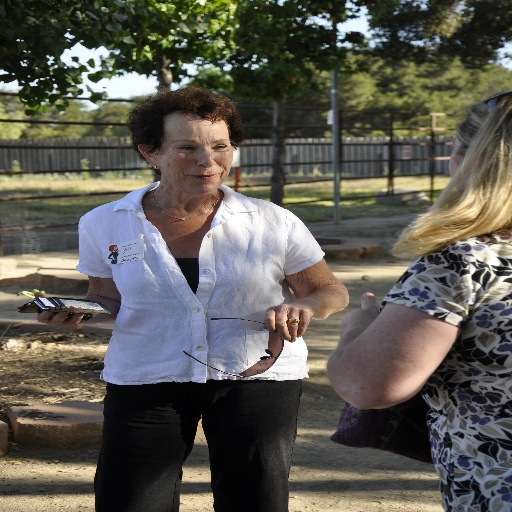hand: (31, 288, 97, 329), (261, 303, 316, 350), (336, 291, 384, 323)
